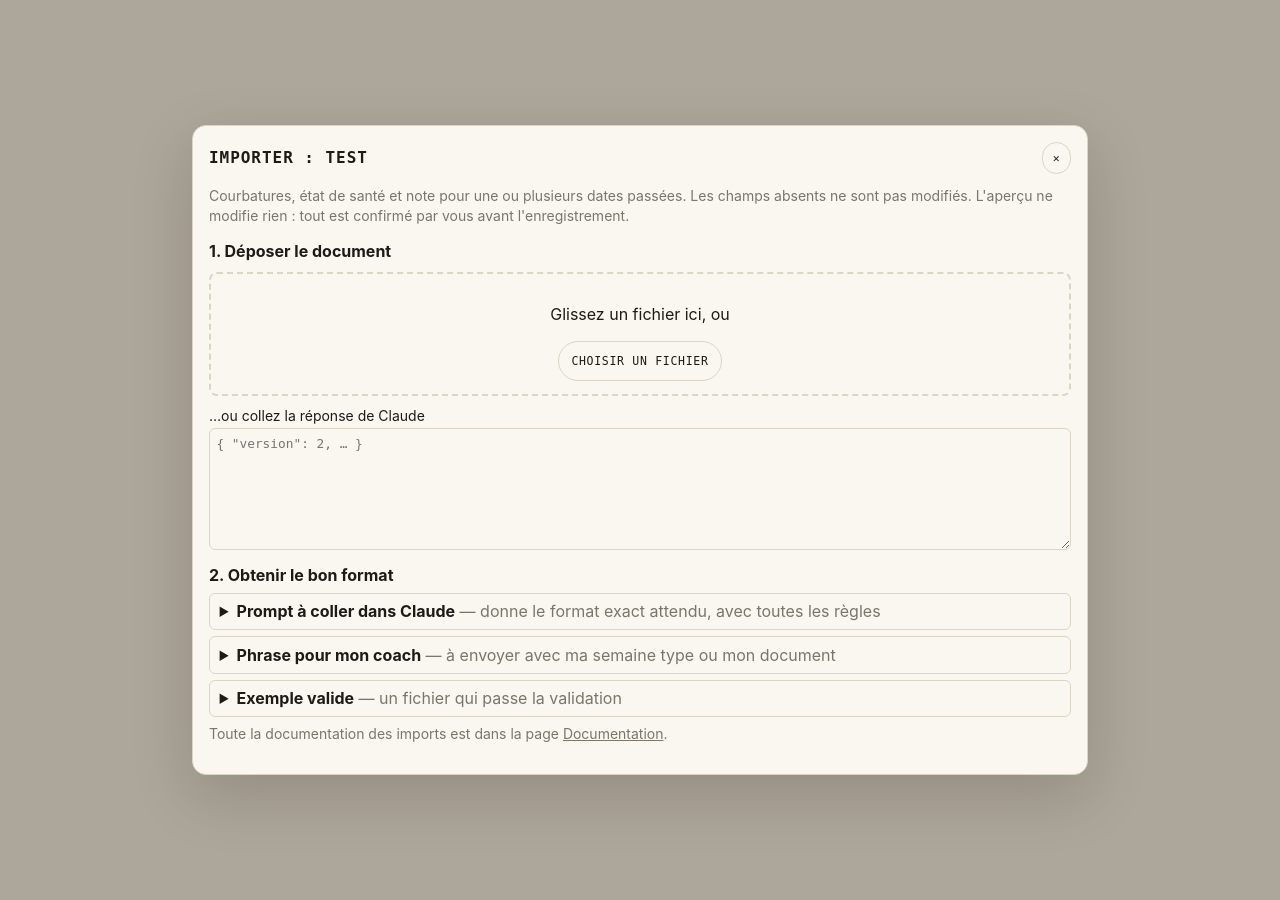
Panneau d'import › liste toutes les erreurs de saisie en français
Click the text box labelled "…ou collez la réponse de Claude" at (640, 489), box [209,428,1071,550]
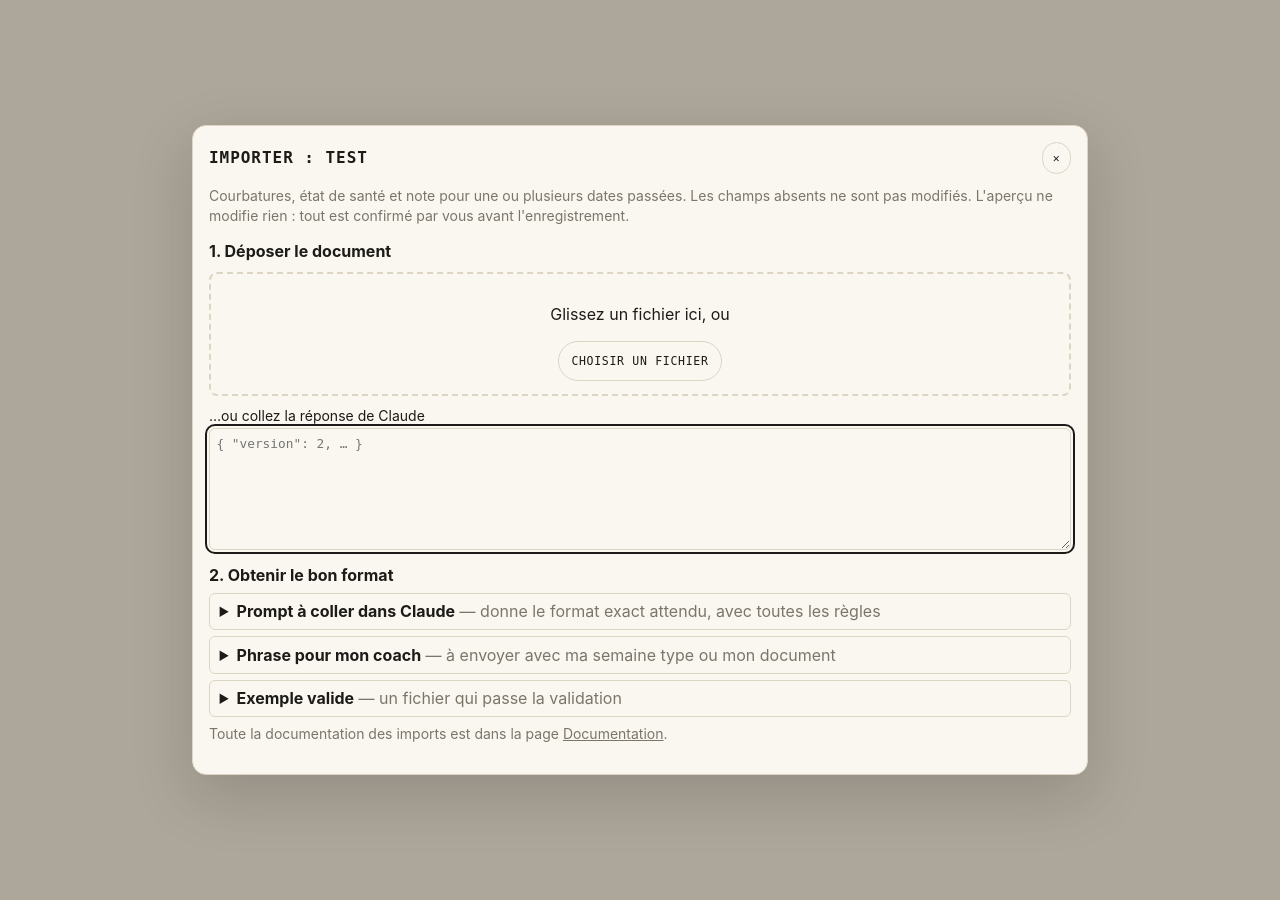
Type keys "{\"version\":1,\"saisies\":[{\"date\":\"hier\",\"courbatures\":12,\"inconnu\":1}]}"
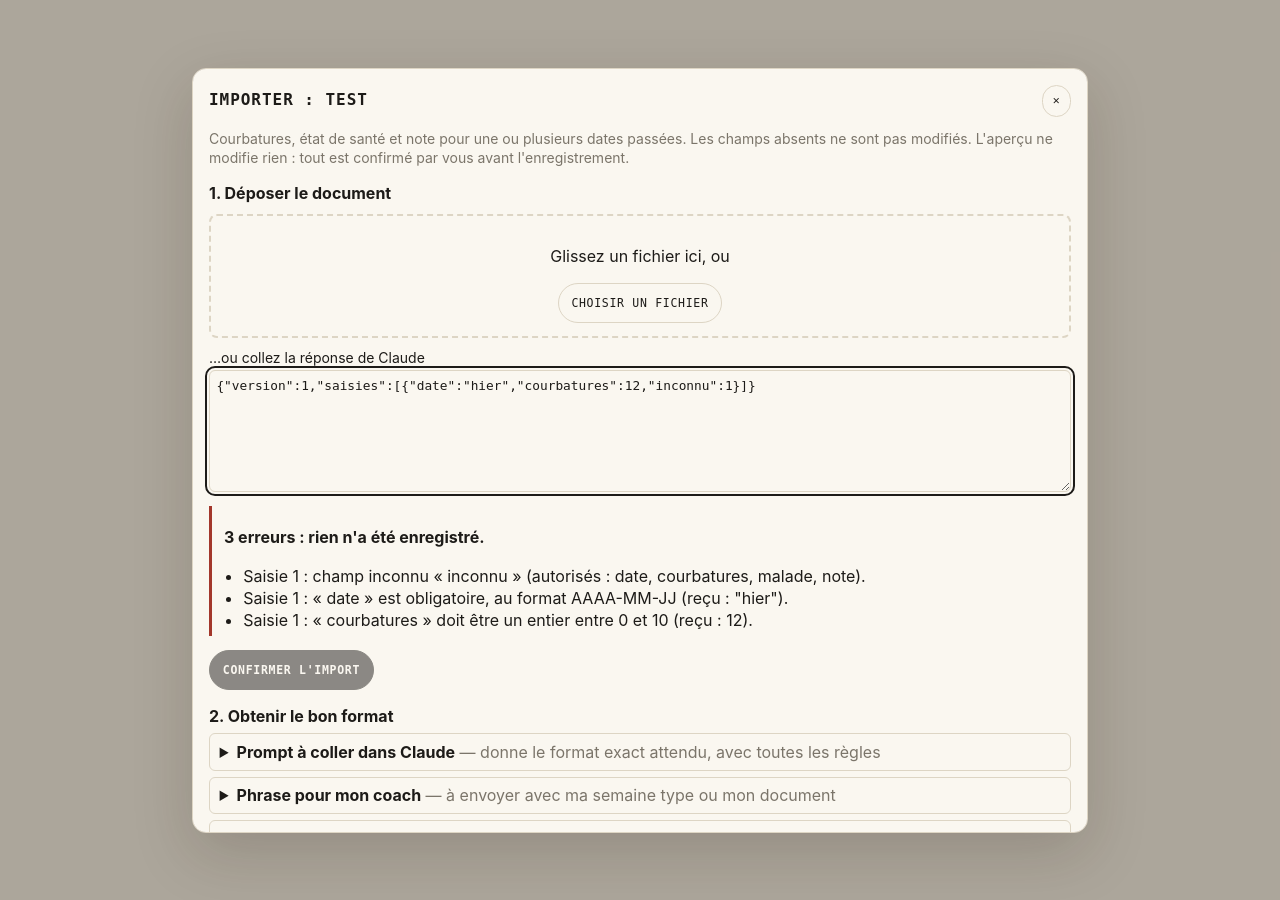
Check: the message shows "3 erreurs", box [209,506,1071,636]
Check: the message shows "champ inconnu « inconnu »", box [243,566,866,586]
Check: the message shows "« courbatures » doit être un entier entre 0 et 10", box [243,610,753,630]
